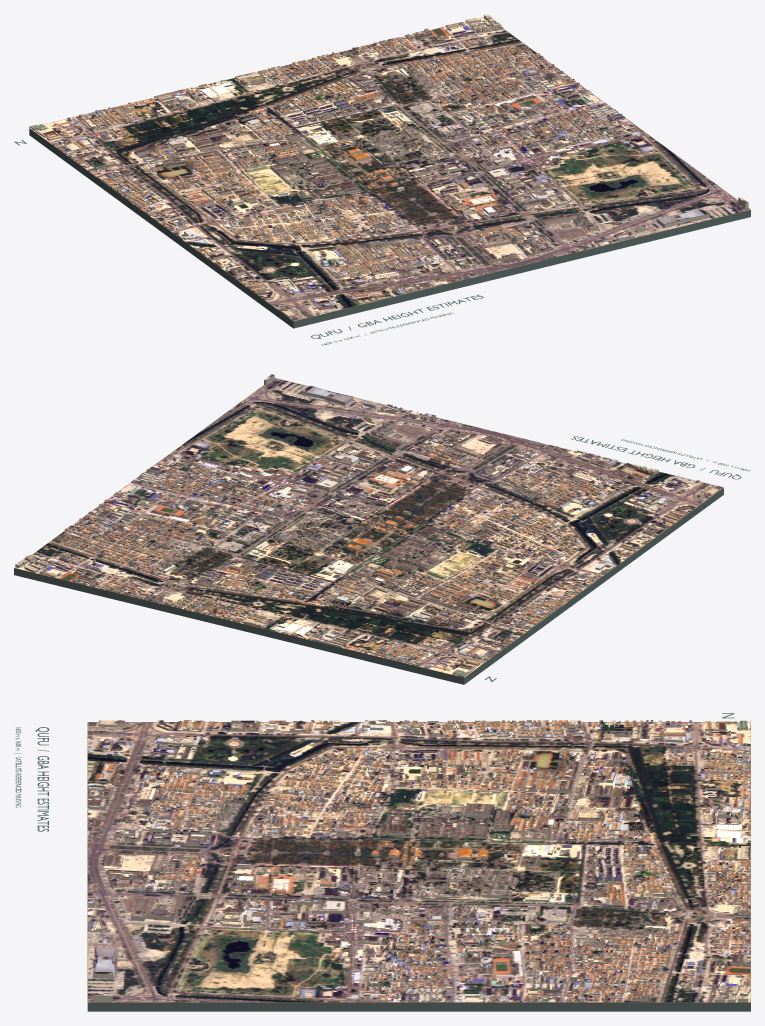
File: qufu_gba.glb
The picture shows the model from 3 angles, top to bottom: view 1: azimuth 30°, elevation 25°; view 2: azimuth 150°, elevation 25°; view 3: azimuth 270°, elevation 25°; orthographic projection. The views are drawn at different scales.
Visible parts, largest first — view 1: Google Earth full sample reference, 1600m study plinth, dissolved_water_0; view 2: Google Earth full sample reference, 1600m study plinth, dissolved_water_0; view 3: Google Earth full sample reference, dissolved_water_0, 1600m study plinth, dissolved_water_4, Title, Sample edge.001, 曲阜游客服务中心, QF_1032, dissolved_water_3.
Boxes of the visible parts, <box> form: Google Earth full sample reference: <box>30,17,750,321</box>; 1600m study plinth: <box>29,128,750,328</box>; dissolved_water_0: <box>112,104,713,307</box>; Google Earth full sample reference: <box>14,378,723,676</box>; 1600m study plinth: <box>14,488,723,684</box>; dissolved_water_0: <box>180,400,669,635</box>; Google Earth full sample reference: <box>87,722,750,1002</box>; dissolved_water_0: <box>87,722,668,1002</box>; 1600m study plinth: <box>87,1002,750,1011</box>; dissolved_water_4: <box>664,925,697,1002</box>; Title: <box>35,727,49,831</box>; Sample edge.001: <box>88,1002,750,1002</box>; 曲阜游客服务中心: <box>93,947,115,978</box>; QF_1032: <box>291,899,349,913</box>; dissolved_water_3: <box>661,844,698,906</box>.
Bounding box in the file's own units: 1677 × 42.31 × 1778.
Materials: 7 (3 with a texture image).
